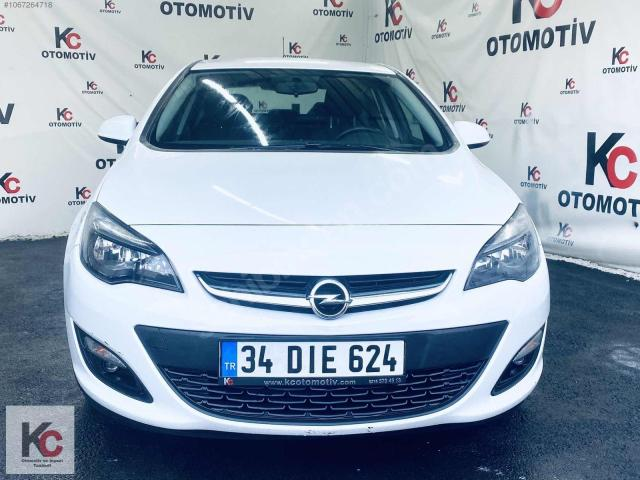plaka: (220, 338, 409, 384)
